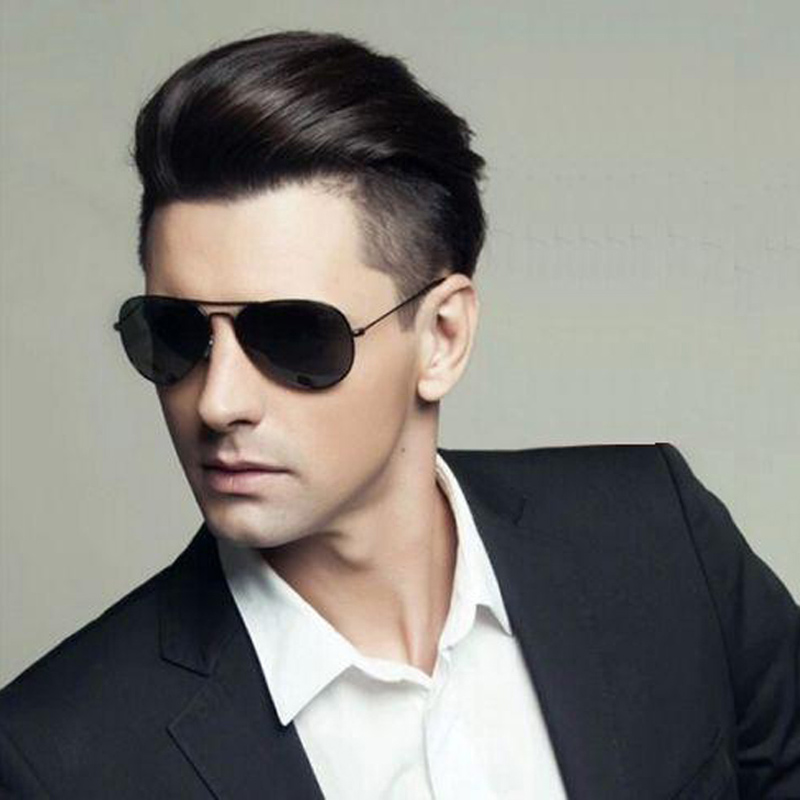sunglasses: (64, 279, 466, 399)
